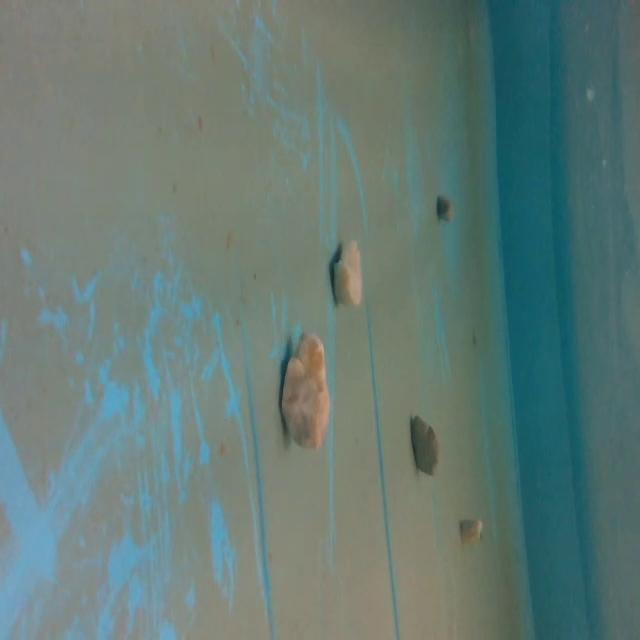rock: (277, 322, 331, 456), (326, 235, 370, 309), (406, 413, 442, 481), (435, 195, 455, 228)
